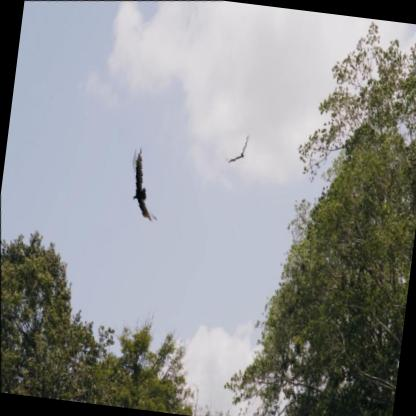bird: (118, 140, 170, 227), (218, 126, 257, 167)
